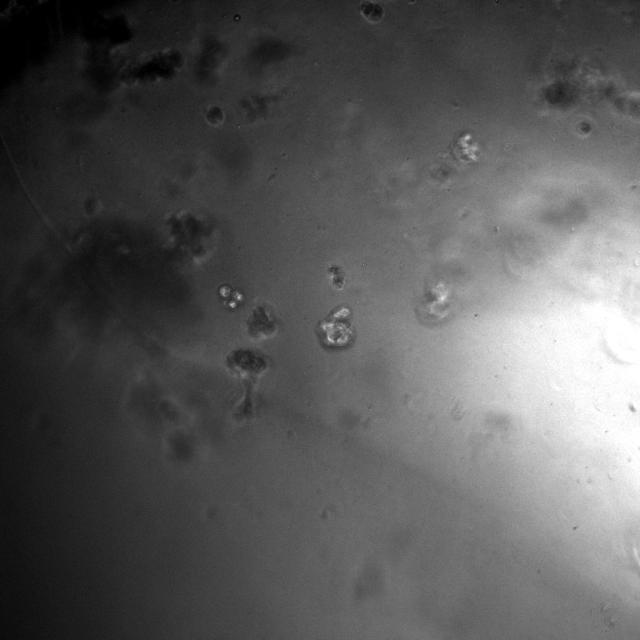organoid: (226, 348, 269, 418), (119, 48, 184, 83), (166, 210, 212, 257), (316, 304, 355, 348), (248, 307, 277, 339), (218, 283, 244, 309), (359, 0, 384, 24), (327, 264, 345, 289), (206, 105, 224, 126)
